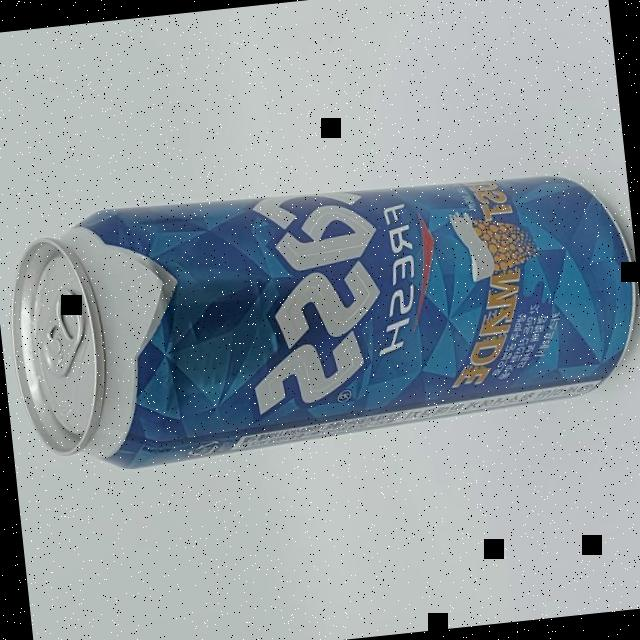can: (0, 151, 640, 482)
